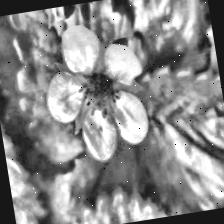Blossom Blight: (74, 64, 124, 122)
